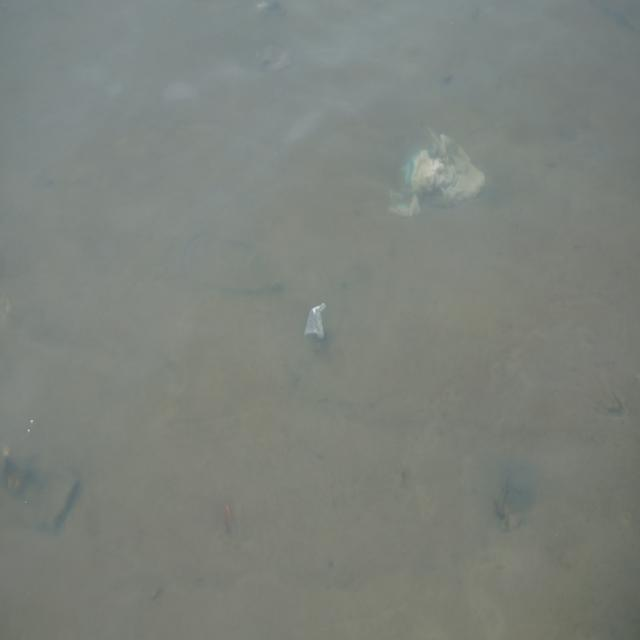Kantong Plastik: (303, 298, 328, 344)
